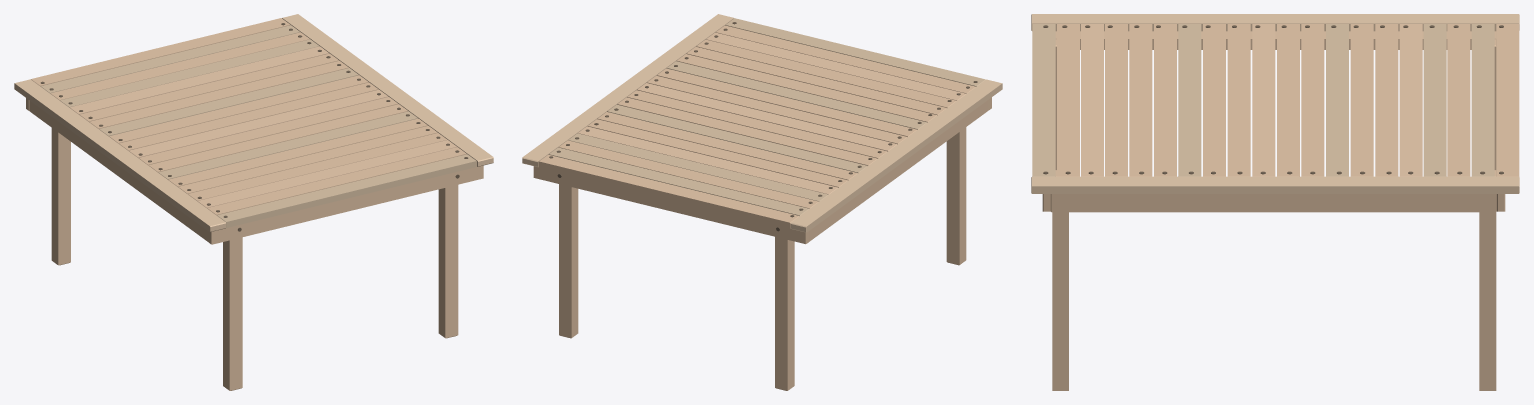
File: Proto_WoodenTable_02.fbx
3 views of the same model, side by side, from view 1: azimuth 30°, elevation 25°; view 2: azimuth 150°, elevation 25°; view 3: azimuth 270°, elevation 25° (orthographic). The views are drawn at different scales.
Visible parts, largest first — view 1: polySurface1108; view 2: polySurface1108; view 3: polySurface1108.
Boxes of the visible parts, x1,y1,x2,y2 form: polySurface1108: [14, 14, 493, 390]; polySurface1108: [522, 14, 1002, 390]; polySurface1108: [1031, 14, 1519, 390].
Bounding box in the file's own units: 15.08 × 9.06 × 18.05.
